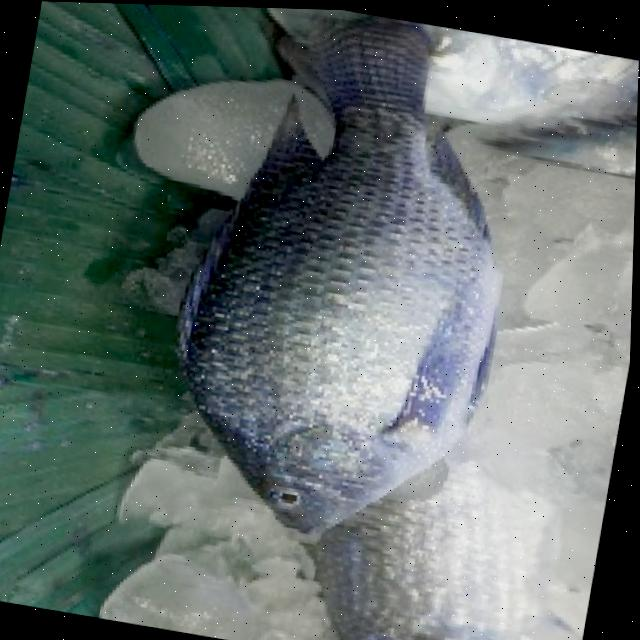Fresh: (121, 107, 554, 572)
